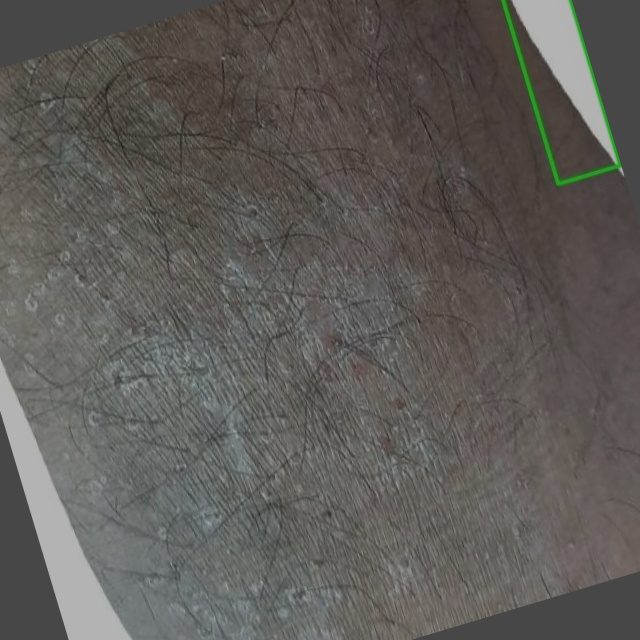Contact Dermatitis: (503, 0, 620, 184)
